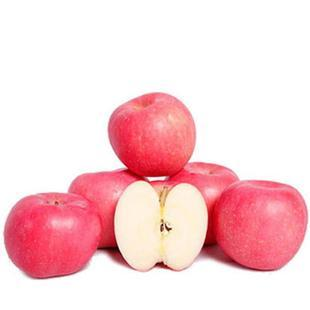apple: (210, 178, 307, 272), (2, 190, 101, 279), (107, 90, 197, 176)
